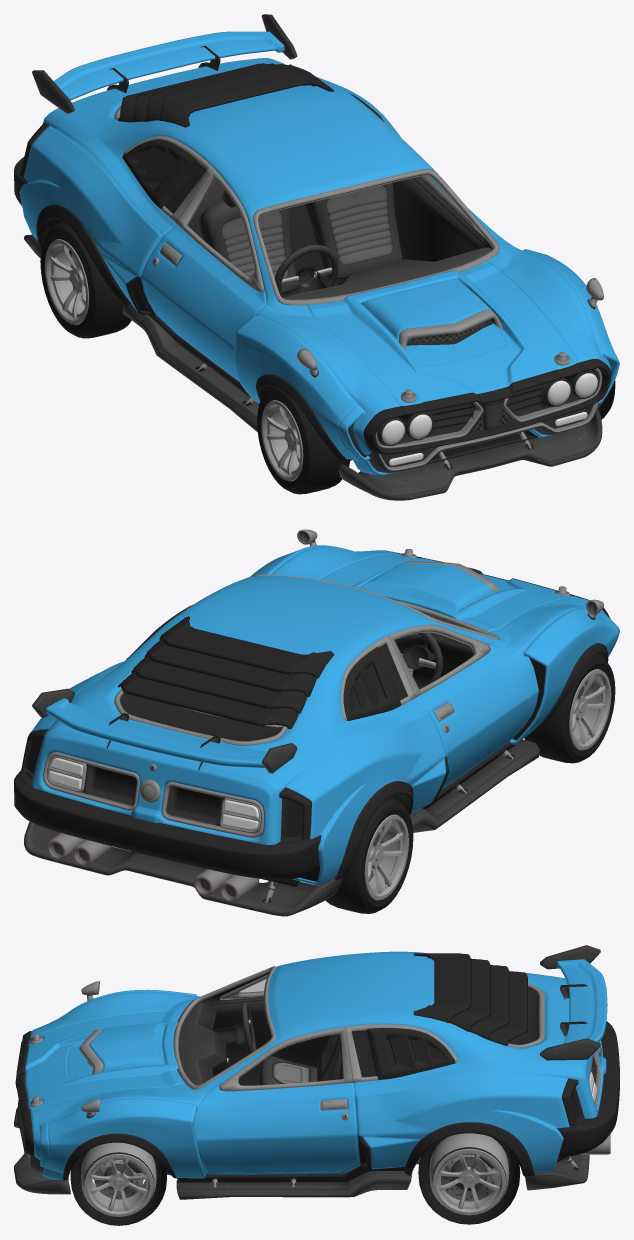
3 renders of one model, top to bottom at view 1: azimuth 30°, elevation 25°; view 2: azimuth 150°, elevation 25°; view 3: azimuth 270°, elevation 25°, orthographic. The views are drawn at different scales.
Parts seen in each view (by area): view 1: mesh_122.001, mesh_116, mesh_123.002, mesh_114.002, Wheel_LB, Wheel_LF, mesh_159.002; view 2: mesh_122.001, mesh_114.002, mesh_116, Wheel_LB, Wheel_LF, mesh_123.002, mesh_159.002; view 3: mesh_122.001, mesh_114.002, mesh_116, mesh_123.002, Wheel_RB, Wheel_RF.
Boxes of the visible parts, box(x1,y1,x2,y2) form: mesh_122.001: box(19, 31, 619, 475); mesh_116: box(24, 14, 603, 500); mesh_123.002: box(188, 176, 492, 328); mesh_114.002: box(14, 63, 611, 464); Wheel_LB: box(40, 221, 131, 338); Wheel_LF: box(257, 386, 350, 494); mesh_159.002: box(382, 373, 597, 465); mesh_122.001: box(21, 545, 619, 885); mesh_114.002: box(14, 550, 610, 886); mesh_116: box(24, 529, 603, 916); Wheel_LB: box(325, 797, 413, 913); Wheel_LF: box(524, 654, 615, 763); mesh_123.002: box(394, 611, 473, 689); mesh_159.002: box(49, 758, 258, 830); mesh_122.001: box(25, 951, 607, 1179); mesh_114.002: box(15, 953, 619, 1182); mesh_116: box(14, 945, 610, 1201); mesh_123.002: box(178, 973, 343, 1085); Wheel_RB: box(418, 1133, 520, 1224); Wheel_RF: box(70, 1142, 166, 1225).
Bounding box in the file's own units: 26.37 × 17.39 × 51.11.
Materials: 9 (3 with a texture image).
